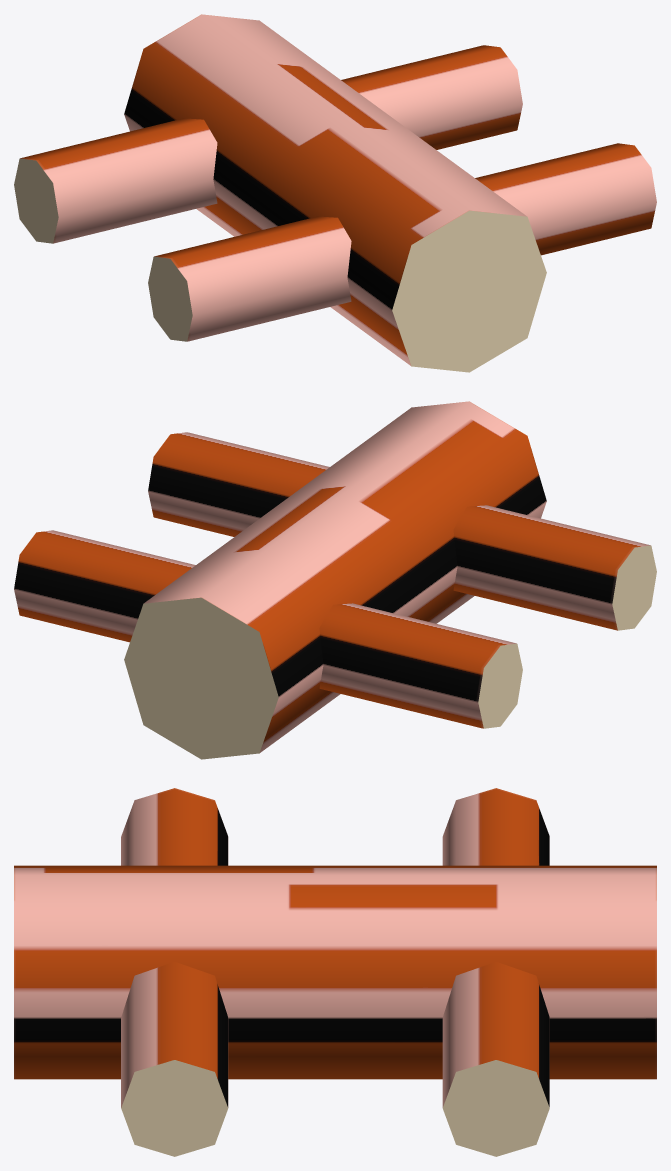
File: fence.obj
3 views of the same model, one above another, from view 1: azimuth 30°, elevation 25°; view 2: azimuth 150°, elevation 25°; view 3: azimuth 270°, elevation 25° (orthographic). The views are drawn at different scales.
Visible parts, largest first — view 1: mat4model0surf16, mat4model0surf18, mat3model0surf11, mat4model0surf21, mat4model0surf23, mat4model0surf19, mat4model0surf20, mat3model0surf14, mat3model0surf13; view 2: mat4model0surf16, mat4model0surf18, mat3model0surf12, mat4model0surf24, mat4model0surf22, mat4model0surf20, mat4model0surf19, mat3model0surf13, mat3model0surf14; view 3: mat4model0surf15, mat4model0surf16, mat4model0surf19, mat4model0surf20, mat3model0surf9, mat3model0surf10, mat4model0surf21, mat4model0surf24, mat4model0surf22, mat4model0surf23.
Boxes of the visible parts, left/top/right/bottom form: mat4model0surf16: left=143, top=14, right=526, bottom=244; mat4model0surf18: left=124, top=49, right=411, bottom=365; mat3model0surf11: left=392, top=210, right=546, bottom=372; mat4model0surf21: left=187, top=168, right=656, bottom=341; mat4model0surf23: left=53, top=70, right=522, bottom=243; mat4model0surf19: left=154, top=143, right=651, bottom=280; mat4model0surf20: left=20, top=45, right=516, bottom=182; mat3model0surf14: left=14, top=158, right=58, bottom=243; mat3model0surf13: left=148, top=256, right=192, bottom=341; mat4model0surf16: left=144, top=401, right=527, bottom=631; mat4model0surf18: left=259, top=436, right=546, bottom=752; mat3model0surf12: left=124, top=597, right=278, bottom=759; mat4model0surf24: left=14, top=555, right=483, bottom=728; mat4model0surf22: left=148, top=457, right=617, bottom=630; mat4model0surf20: left=19, top=530, right=516, bottom=667; mat4model0surf19: left=154, top=432, right=650, bottom=569; mat3model0surf13: left=612, top=545, right=656, bottom=630; mat3model0surf14: left=478, top=643, right=522, bottom=728; mat4model0surf15: left=14, top=933, right=656, bottom=1079; mat4model0surf16: left=14, top=865, right=656, bottom=933; mat4model0surf19: left=134, top=788, right=214, bottom=1071; mat4model0surf20: left=456, top=788, right=536, bottom=1071; mat3model0surf9: left=121, top=1060, right=228, bottom=1156; mat3model0surf10: left=442, top=1060, right=549, bottom=1156; mat4model0surf21: left=121, top=800, right=134, bottom=1107; mat4model0surf24: left=536, top=800, right=549, bottom=1106; mat4model0surf22: left=215, top=801, right=228, bottom=1107; mat4model0surf23: left=442, top=801, right=455, bottom=1107.
Size of the model in its own units: 48 by 16 by 48.
